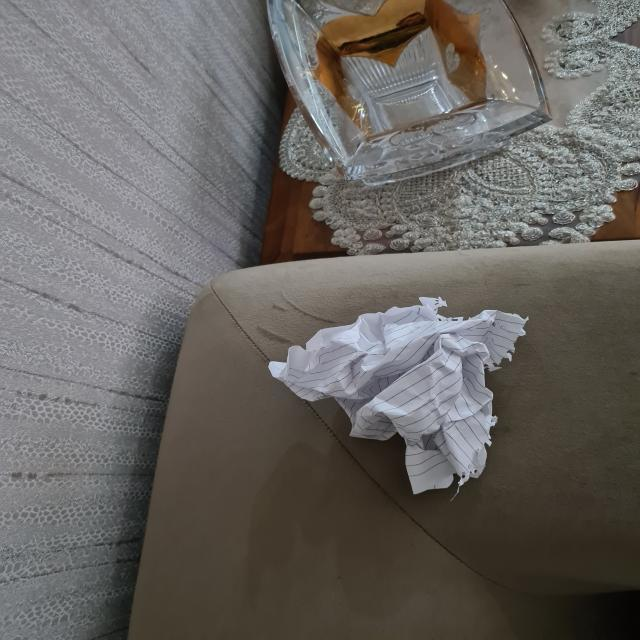Paper: (270, 302, 523, 491)
